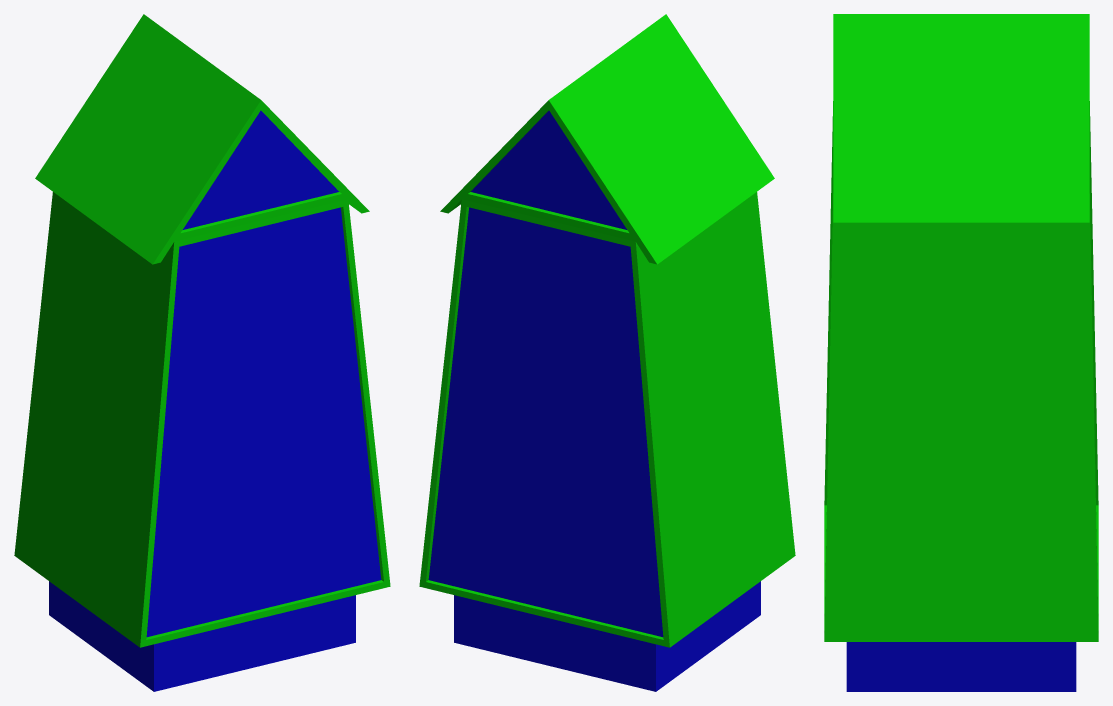
Rendered from Windmill.fbx.
The picture shows the model from 3 angles, left to right: view 1: azimuth 30°, elevation 25°; view 2: azimuth 150°, elevation 25°; view 3: azimuth 270°, elevation 25°; orthographic projection. The views are drawn at different scales.
Visible parts, largest first — view 1: Windmill; view 2: Windmill; view 3: Windmill.
Part boxes in pixels (x1,y1,x2,y2): Windmill: (14, 14, 390, 691); Windmill: (419, 14, 795, 691); Windmill: (824, 14, 1098, 691).
Size of the model in its own units: 138 by 301 by 120.
